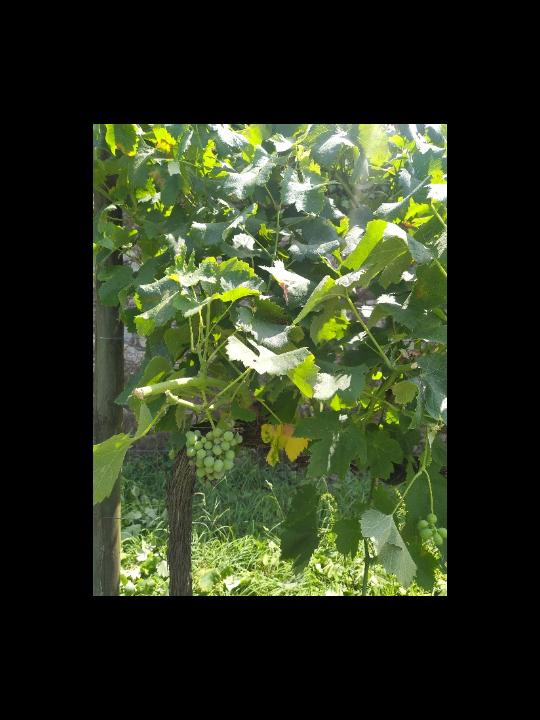grape: (184, 427, 244, 489)
